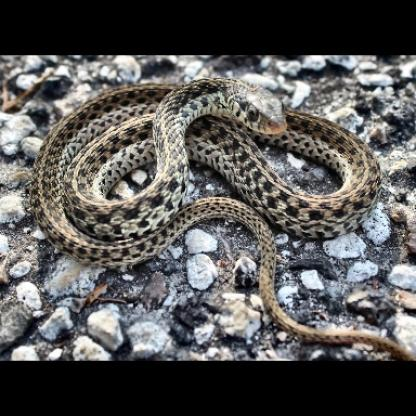Snake: (27, 78, 384, 345)
